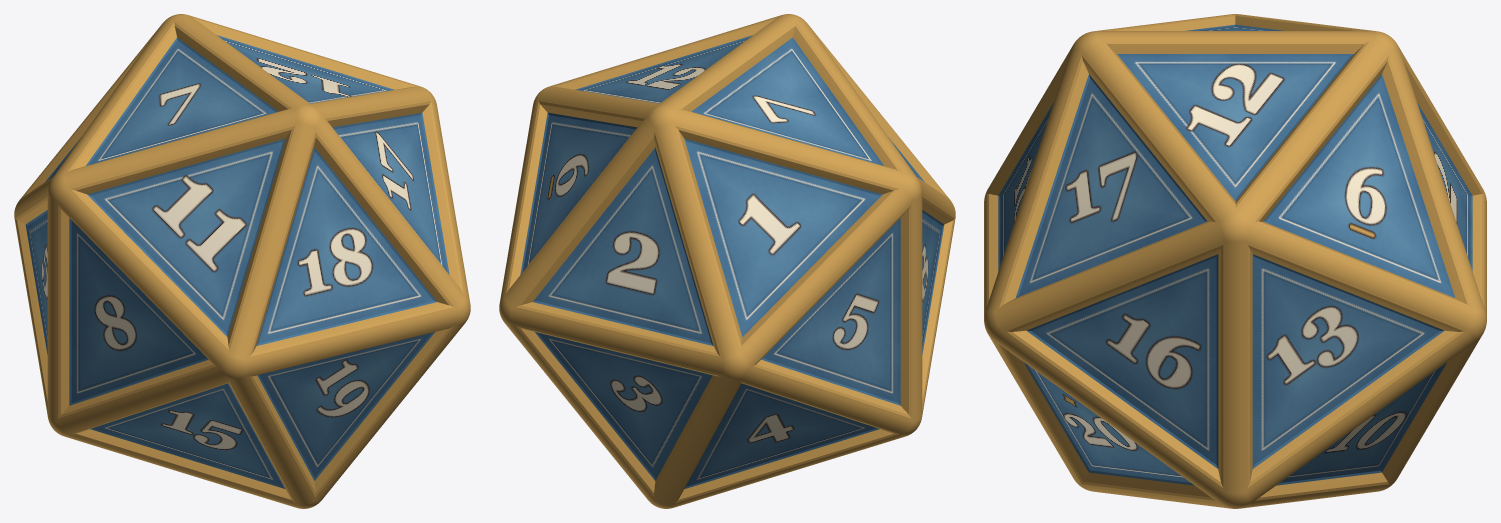
File: d20_skin.glb
3 renders of one model, left to right at view 1: azimuth 30°, elevation 25°; view 2: azimuth 150°, elevation 25°; view 3: azimuth 270°, elevation 25°, orthographic. The views are drawn at different scales.
Visible parts, largest first — view 1: Migurd D20; view 2: Migurd D20; view 3: Migurd D20.
Part boxes in pixels (left/top/right/bottom): Migurd D20: left=14, top=14, right=470, bottom=508; Migurd D20: left=499, top=14, right=955, bottom=508; Migurd D20: left=984, top=14, right=1486, bottom=508.
Bounding box in the file's own units: 1.73 × 1.73 × 1.73.
2 materials, 1 textured.
